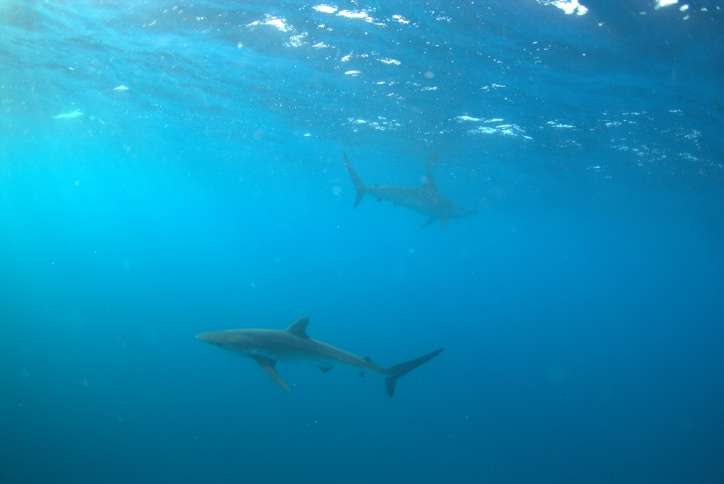Sedoso: (182, 308, 453, 410)
